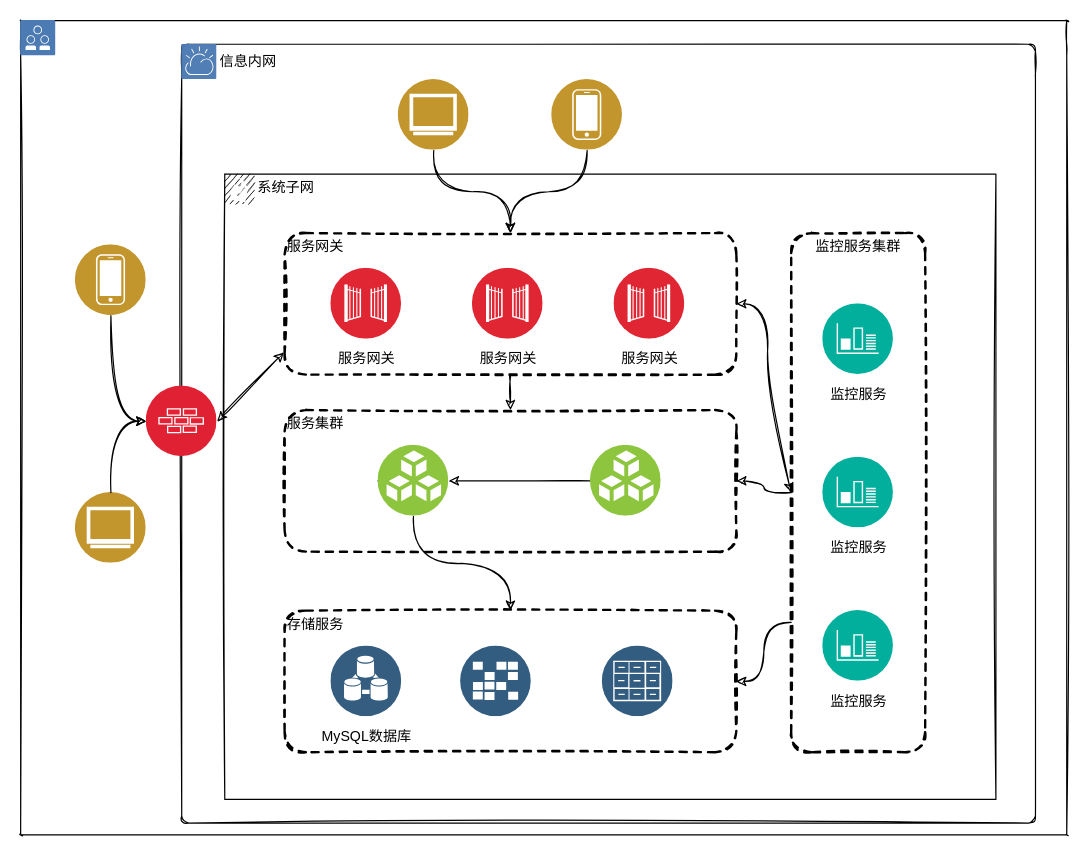
Some shapes in this 1088 by 855 pixel diagram are drawn without their labels. The shapes that lost their labels are listed below. From the top down, each one's centre as x and y in pixels, then its label:
At (x=37, y=37): "信息外网".
At (x=181, y=420): "隔离装置".
At (x=412, y=480): "接口服务集群".
At (x=625, y=480): "web服务集群".
At (x=495, y=680): "Redis缓存".
At (x=637, y=680): "MinIO文件存储".
